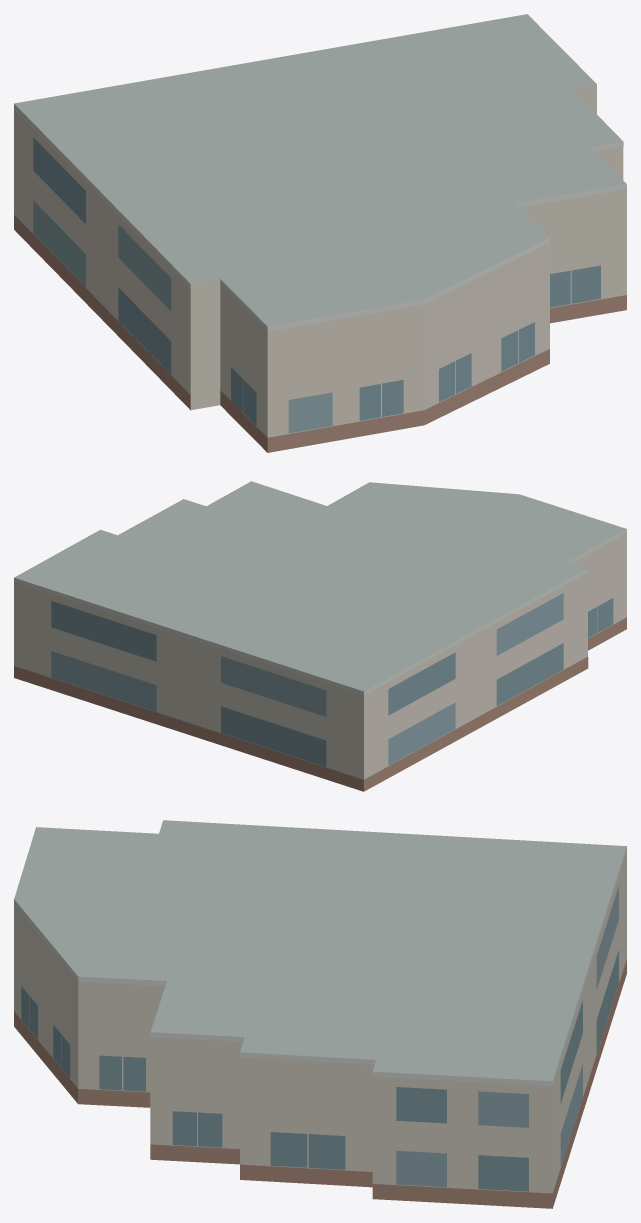
Rendered from survey-upis-32802425.glb.
3 views of the same model, one above another, from view 1: azimuth 30°, elevation 25°; view 2: azimuth 150°, elevation 25°; view 3: azimuth 270°, elevation 25° (orthographic). The views are drawn at different scales.
Visible parts, largest first — view 1: survey-upis-32802425.tmp; view 2: survey-upis-32802425.tmp; view 3: survey-upis-32802425.tmp.
Part boxes in pixels (x1=…): survey-upis-32802425.tmp: x1=14, y1=14, x2=626, y2=452; survey-upis-32802425.tmp: x1=14, y1=481, x2=626, y2=791; survey-upis-32802425.tmp: x1=14, y1=820, x2=626, y2=1208.
Bounding box in the file's own units: 26.8 × 6.1 × 26.58.
